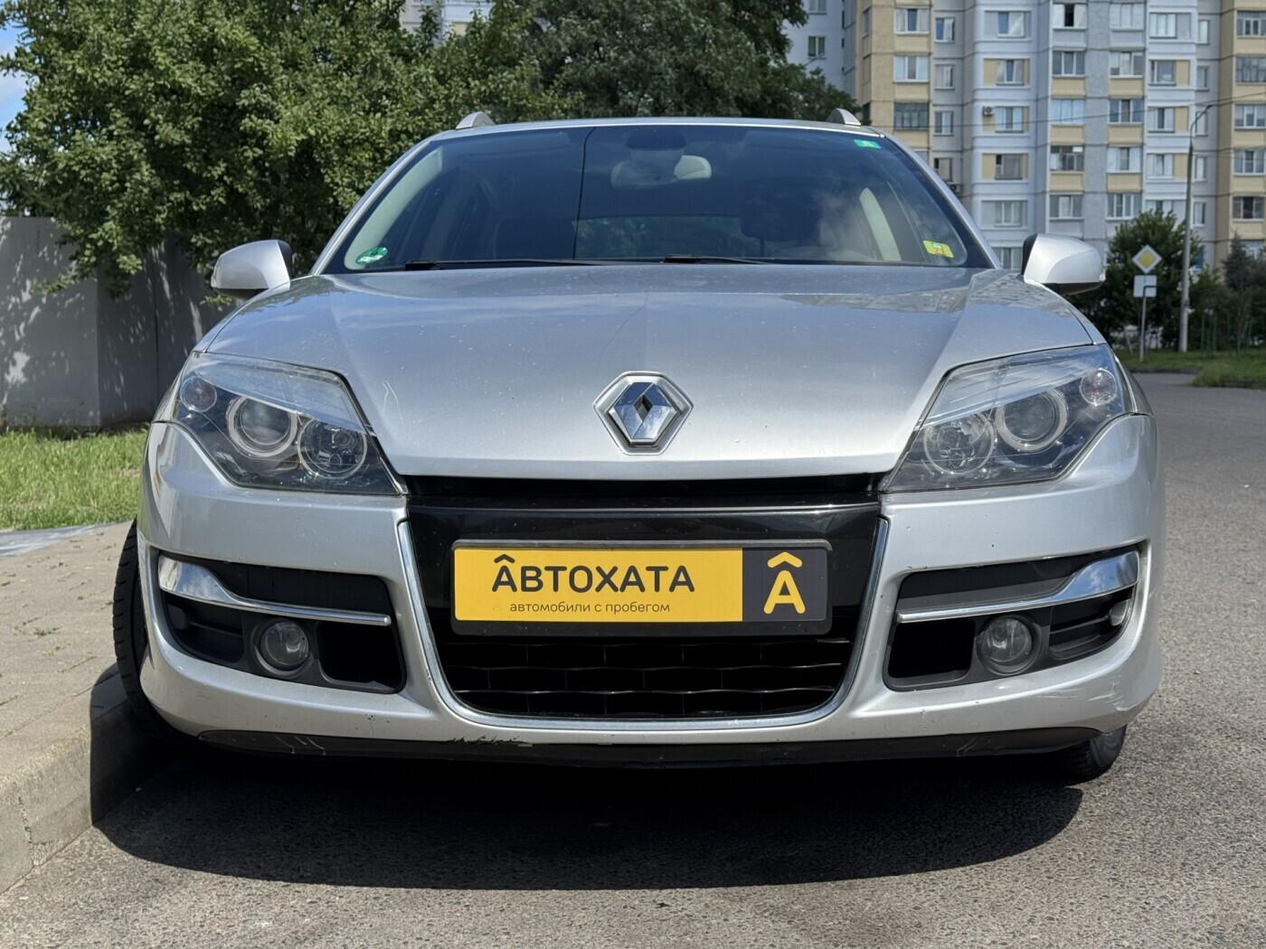Laguna_2010-2015: (109, 93, 1199, 795)
